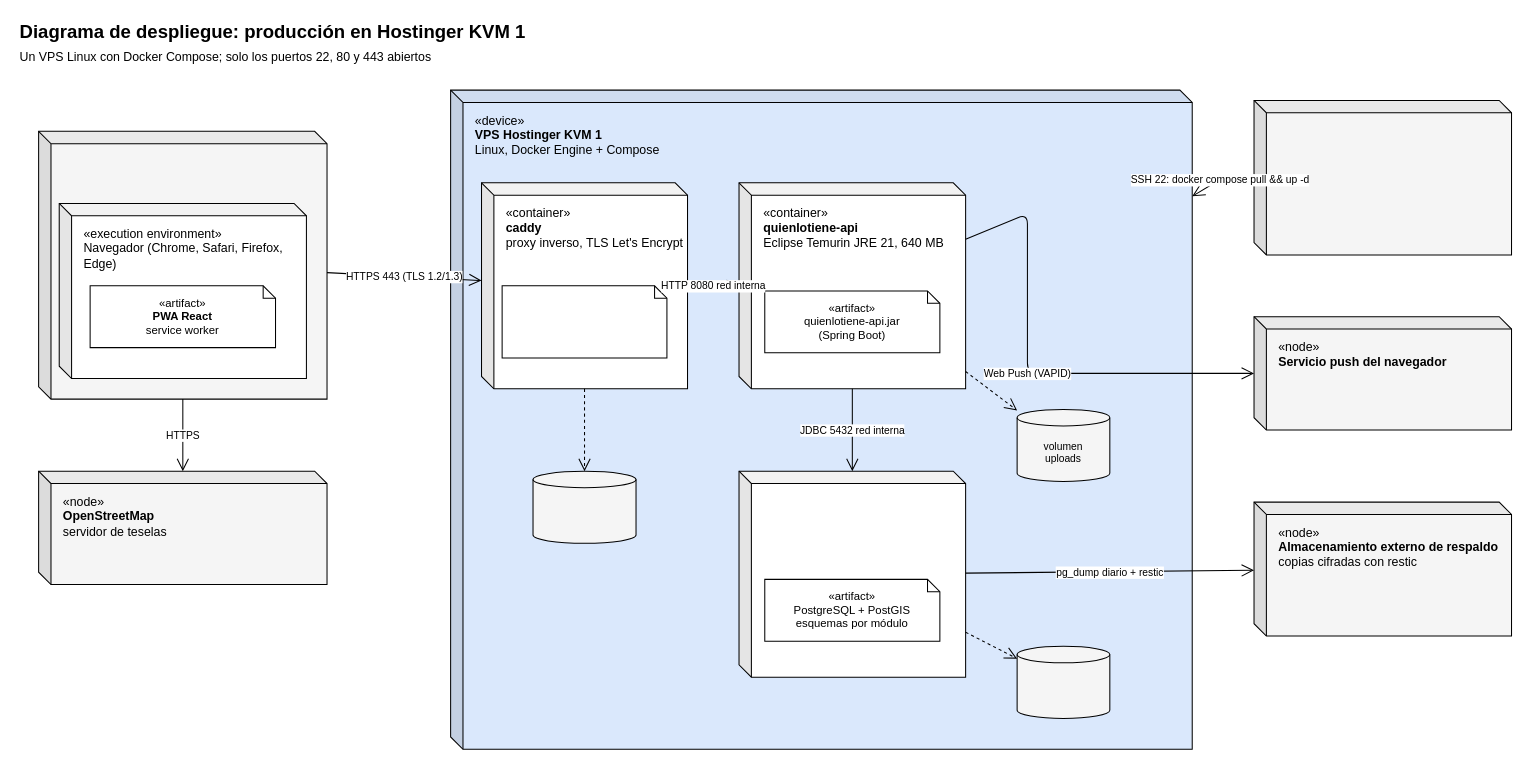
Image size: 1530x767. Some labels were removed from this diagram. The shapes that lost their labels are listed below. From the top down, each one's box as (x1, y1, x2, y2) in pixels, then its label:
(1253, 99, 1512, 255): «node» GitHub Actions + GHCR build, pruebas, Trivy, imagen
(38, 130, 327, 399): «device» Celular o computador del usuario
(501, 285, 667, 358): «artifact» Caddyfile build estático de la PWA
(532, 470, 636, 543): volumen caddy_data
(738, 470, 966, 677): «container» db postgis/postgis, 512 MB
(1016, 645, 1110, 718): volumen pgdata
